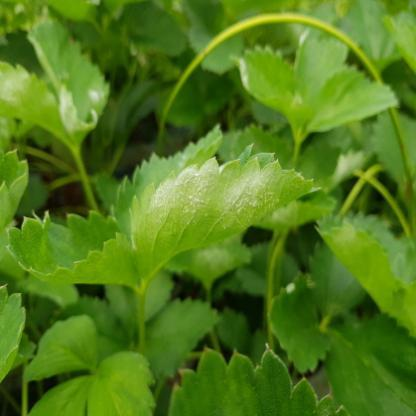Strawberry_Powdery_Mildew_Leaf: (128, 141, 323, 290), (26, 19, 110, 148)
